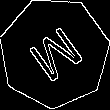M_SE: (22, 19, 87, 87)
